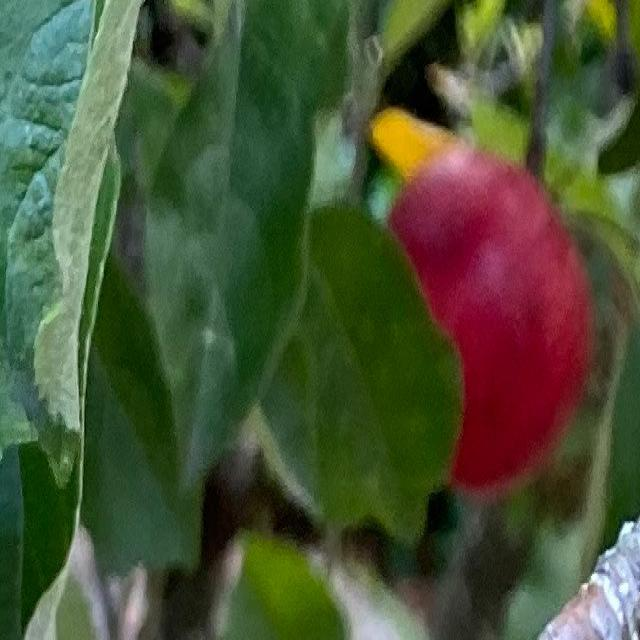Apples: (387, 149, 593, 489)
